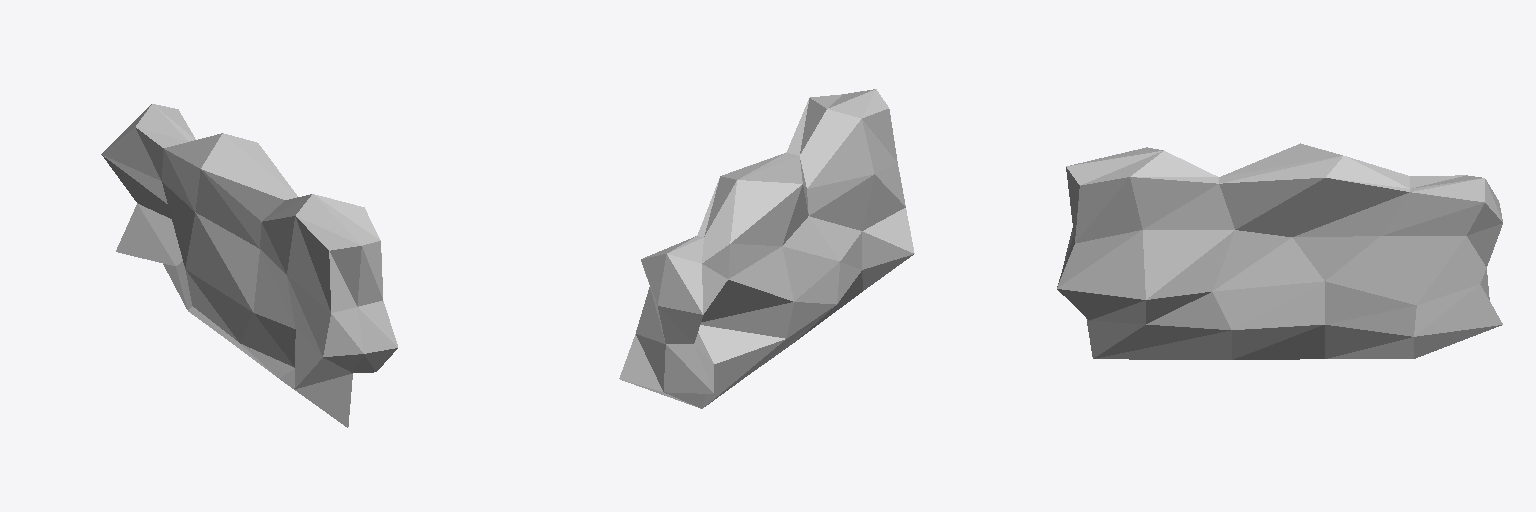
Rendered from rock_wall_5m.obj.
3 views of the same model, side by side, from view 1: azimuth 30°, elevation 25°; view 2: azimuth 150°, elevation 25°; view 3: azimuth 270°, elevation 25° (orthographic).
Parts seen in each view (by area): view 1: Box01; view 2: Box01; view 3: Box01.
Boxes of the visible parts, x1,y1,x2,y2 form: Box01: [101, 104, 397, 427]; Box01: [619, 89, 914, 408]; Box01: [1057, 143, 1502, 359].
Bounding box in the file's own units: 8.08 × 14.95 × 28.86.